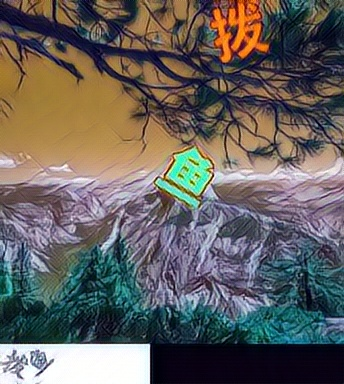B2A6: (207, 1, 272, 65)
D3E3: (152, 144, 217, 208)
